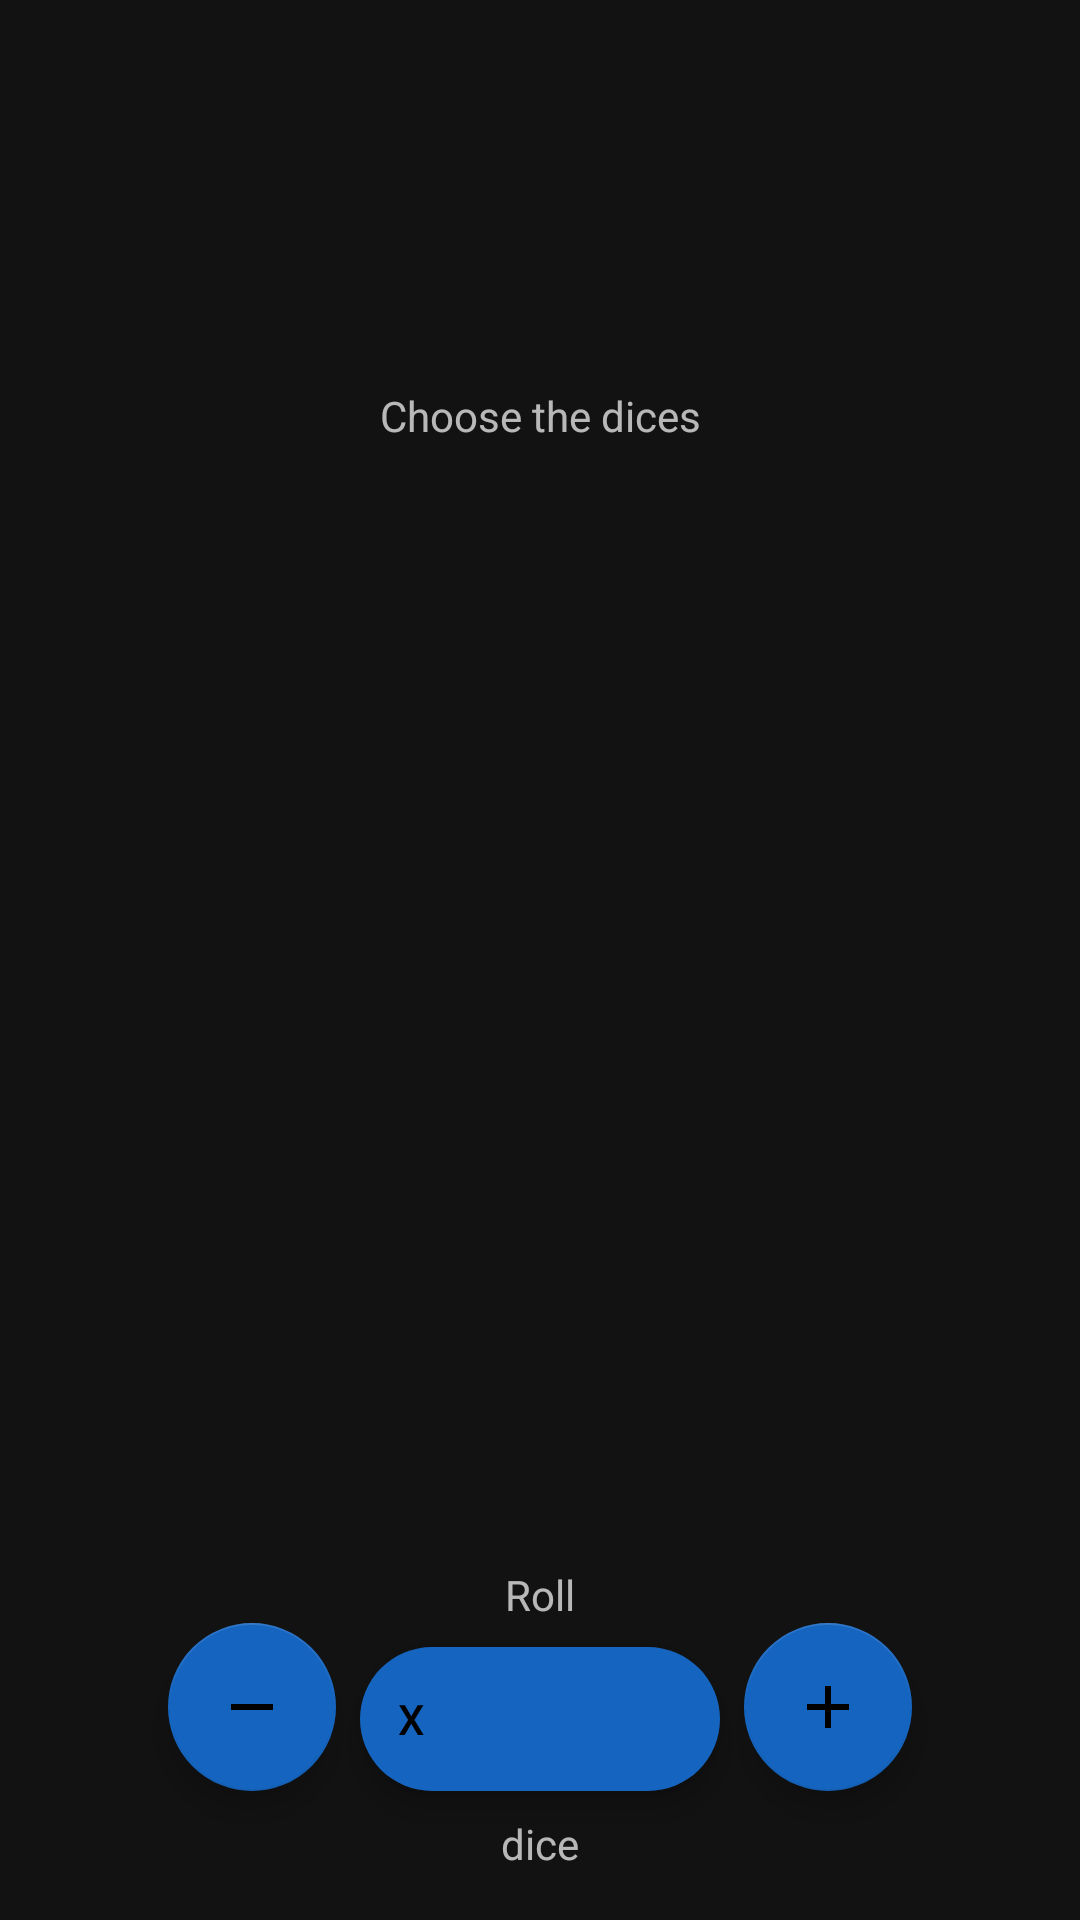

Named icons in this screenshot (1080x1920) and their centers, point (x, y):
add: point (828, 1707)
remove: point (252, 1707)
